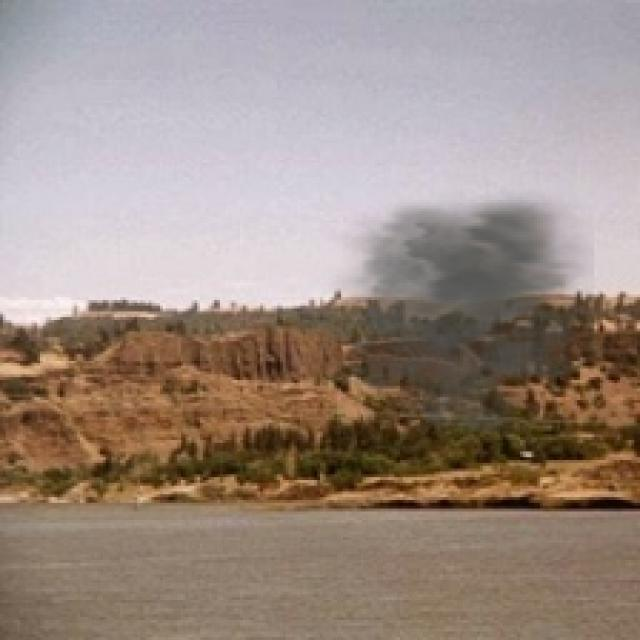Smoke: (314, 186, 594, 431)
